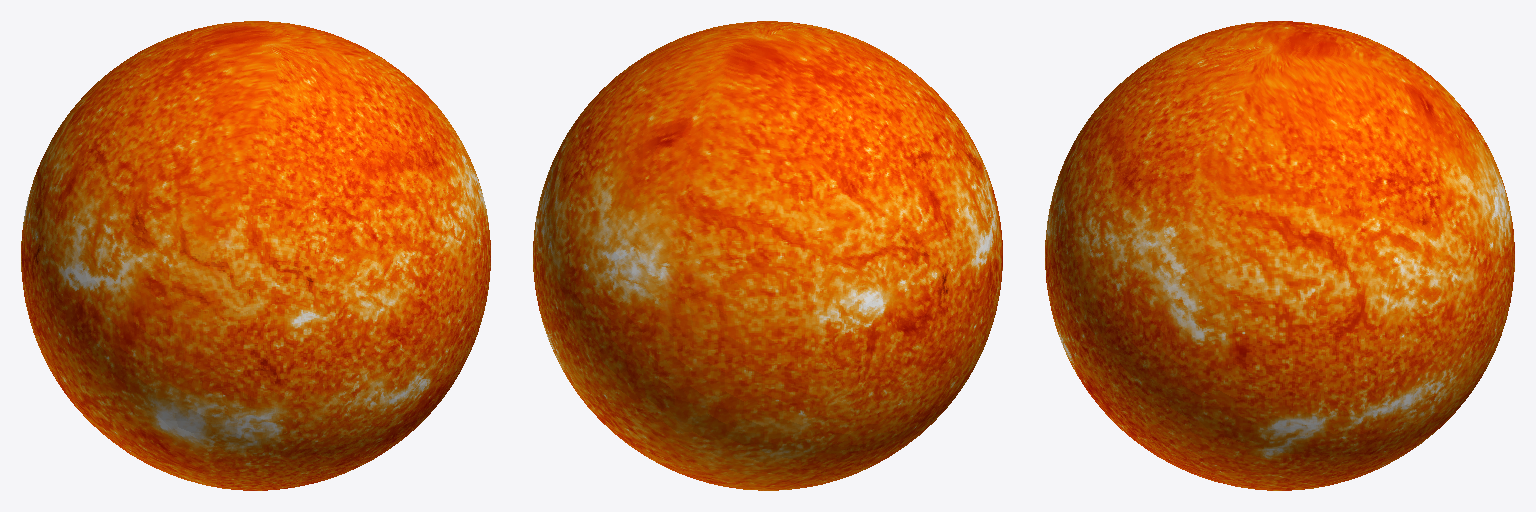
The picture shows the model from 3 angles: view 1: azimuth 30°, elevation 25°; view 2: azimuth 150°, elevation 25°; view 3: azimuth 270°, elevation 25°; orthographic projection.
Parts seen in each view (by area): view 1: 0.Sun; view 2: 0.Sun; view 3: 0.Sun.
Boxes of the visible parts, x1=… form: 0.Sun: x1=21, y1=21, x2=490, y2=490; 0.Sun: x1=533, y1=21, x2=1002, y2=490; 0.Sun: x1=1045, y1=21, x2=1514, y2=490.
Size of the model in its own units: 1.39 by 1.39 by 1.39.
Materials: 1 (1 with a texture image).